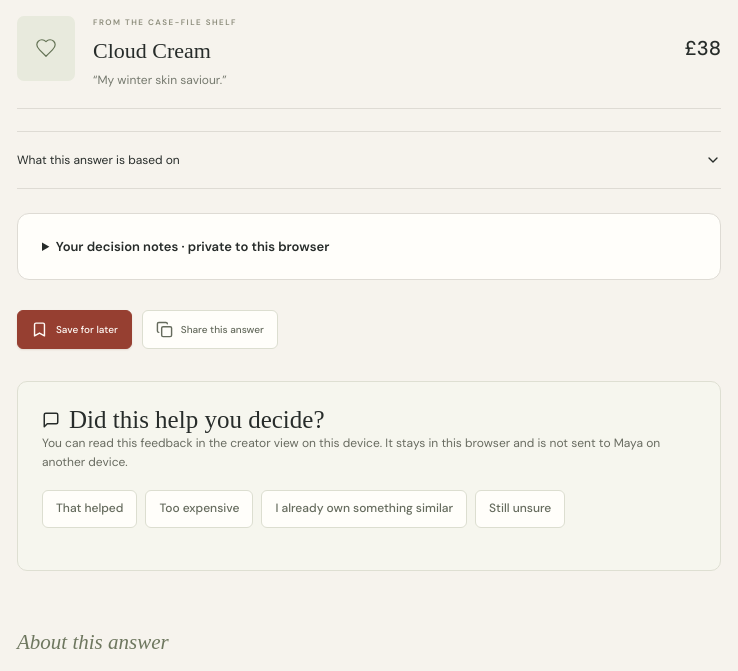
Test: Additional review scenarios › reports failed storage without falsely claiming the advice was saved
(page scrolled)
Click the button "Save for later": (74, 329) [17,310,132,349]
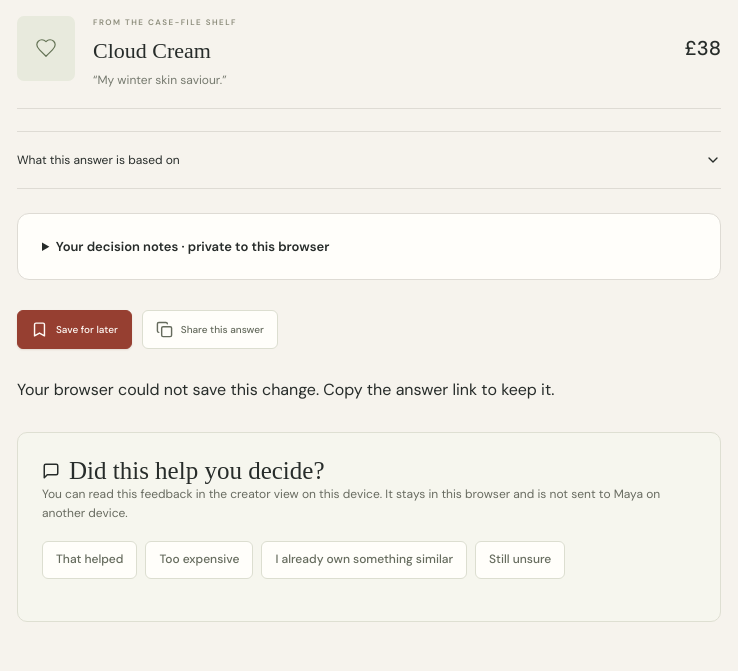
expect the message shows "could not save": met, box [17,379,554,400]
